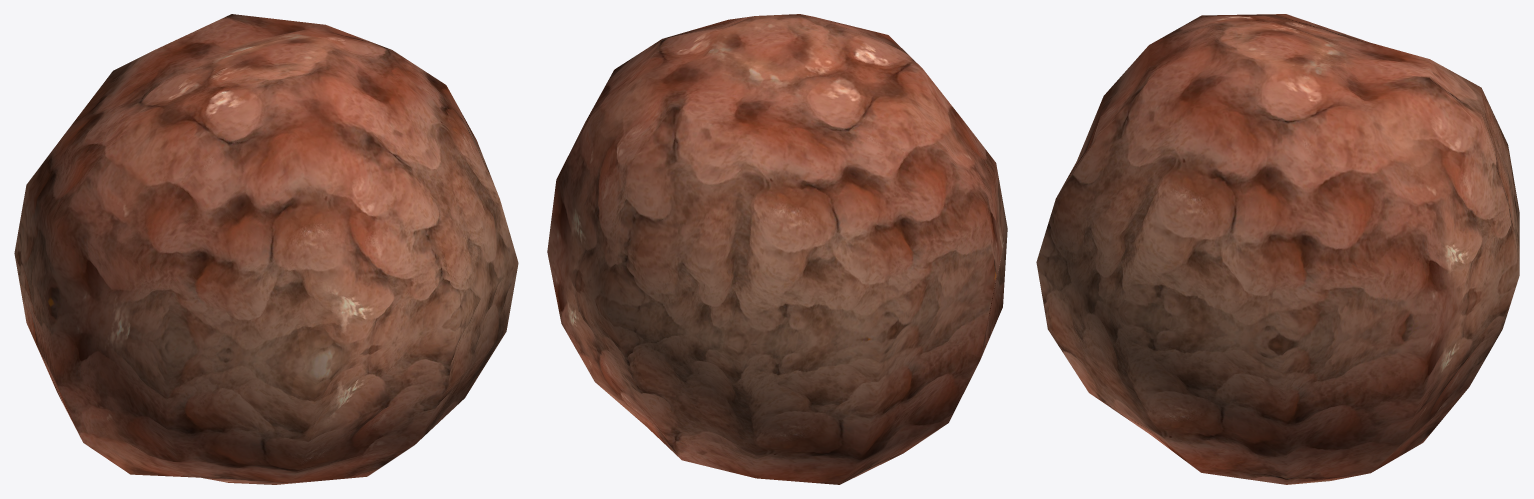
The model's file is whiteBloodCell.fbx.
3 renders of one model, left to right at view 1: azimuth 30°, elevation 25°; view 2: azimuth 150°, elevation 25°; view 3: azimuth 270°, elevation 25°, orthographic. The views are drawn at different scales.
Visible parts, largest first — view 1: White_Blood_Cell; view 2: White_Blood_Cell; view 3: White_Blood_Cell.
Boxes of the visible parts, x1,y1,x2,y2 form: White_Blood_Cell: [14, 14, 518, 484]; White_Blood_Cell: [547, 14, 1007, 484]; White_Blood_Cell: [1036, 14, 1519, 484].
Bounding box in the file's own units: 2.03 × 1.9 × 1.97.
